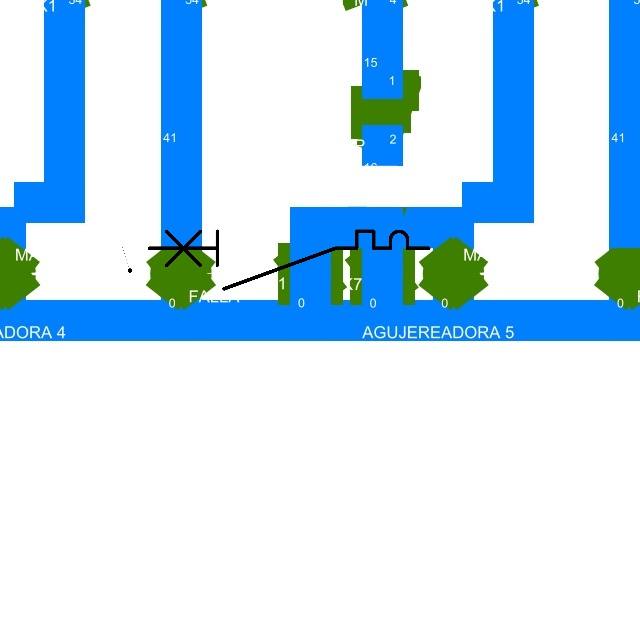interruptor_termomagnetico: (142, 224, 436, 296)
